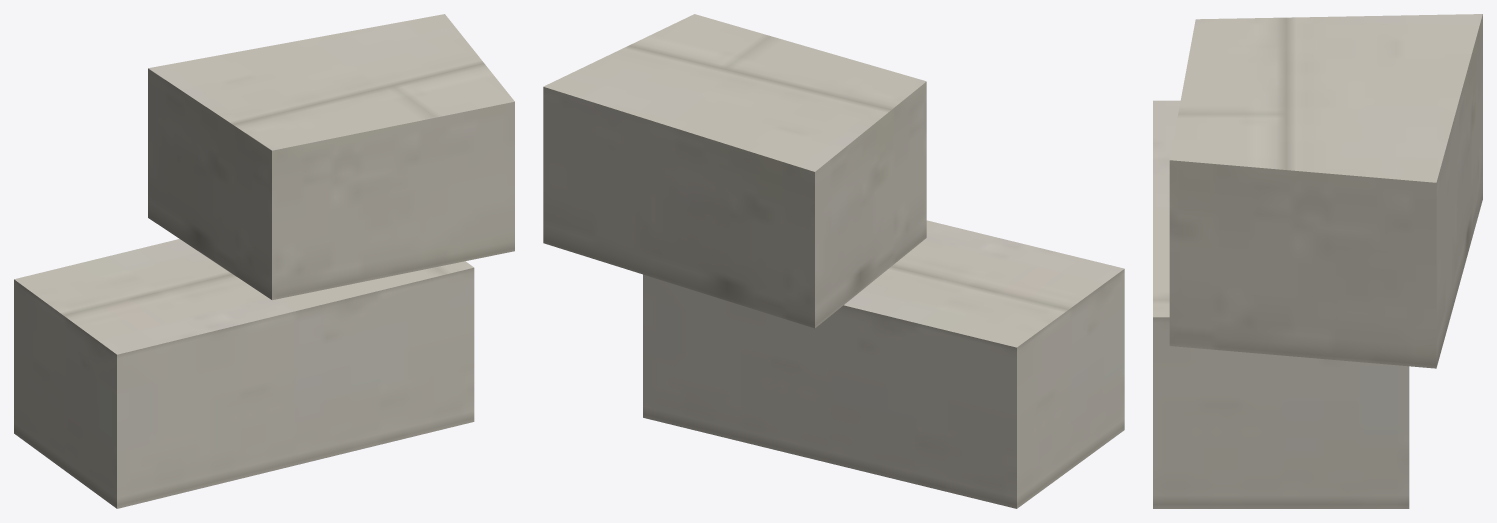
File: debris_dc_ashlar.glb
3 views of the same model, side by side, from view 1: azimuth 30°, elevation 25°; view 2: azimuth 150°, elevation 25°; view 3: azimuth 270°, elevation 25° (orthographic). The views are drawn at different scales.
Parts seen in each view (by area): view 1: debris_dc_ashlar; view 2: debris_dc_ashlar; view 3: debris_dc_ashlar.
Part boxes in pixels (x1,y1,x2,y2): debris_dc_ashlar: [14, 14, 514, 508]; debris_dc_ashlar: [543, 14, 1124, 508]; debris_dc_ashlar: [1153, 14, 1482, 508].
Size of the model in its own units: 1.98 by 1.3 by 1.03.
1 material, 1 textured.
